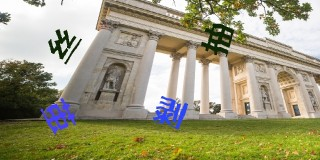丝: (47, 29, 82, 64)
剥: (153, 96, 188, 129)
抽: (201, 23, 234, 55)
茧: (40, 97, 76, 134)
